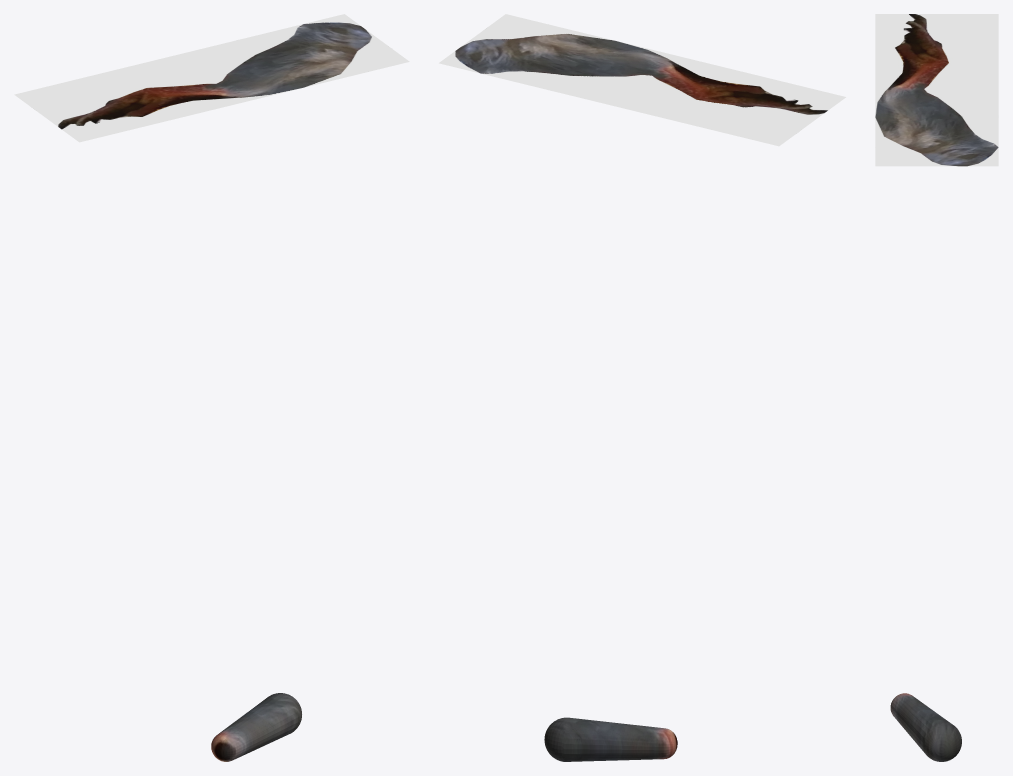
The model's file is mid_leg_texture.dae.
3 views of the same model, side by side, from view 1: azimuth 30°, elevation 25°; view 2: azimuth 150°, elevation 25°; view 3: azimuth 270°, elevation 25° (orthographic). The views are drawn at different scales.
Parts seen in each view (by area): view 1: SketchUp (×2); view 2: SketchUp (×2); view 3: SketchUp (×2).
Part boxes in pixels (<box>): SketchUp (×2): <box>14,14,409,761</box>; SketchUp (×2): <box>439,14,845,761</box>; SketchUp (×2): <box>875,14,998,761</box>.
Size of the model in its own units: 6.94 by 2.38 by 13.54.
1 material, 1 textured.
